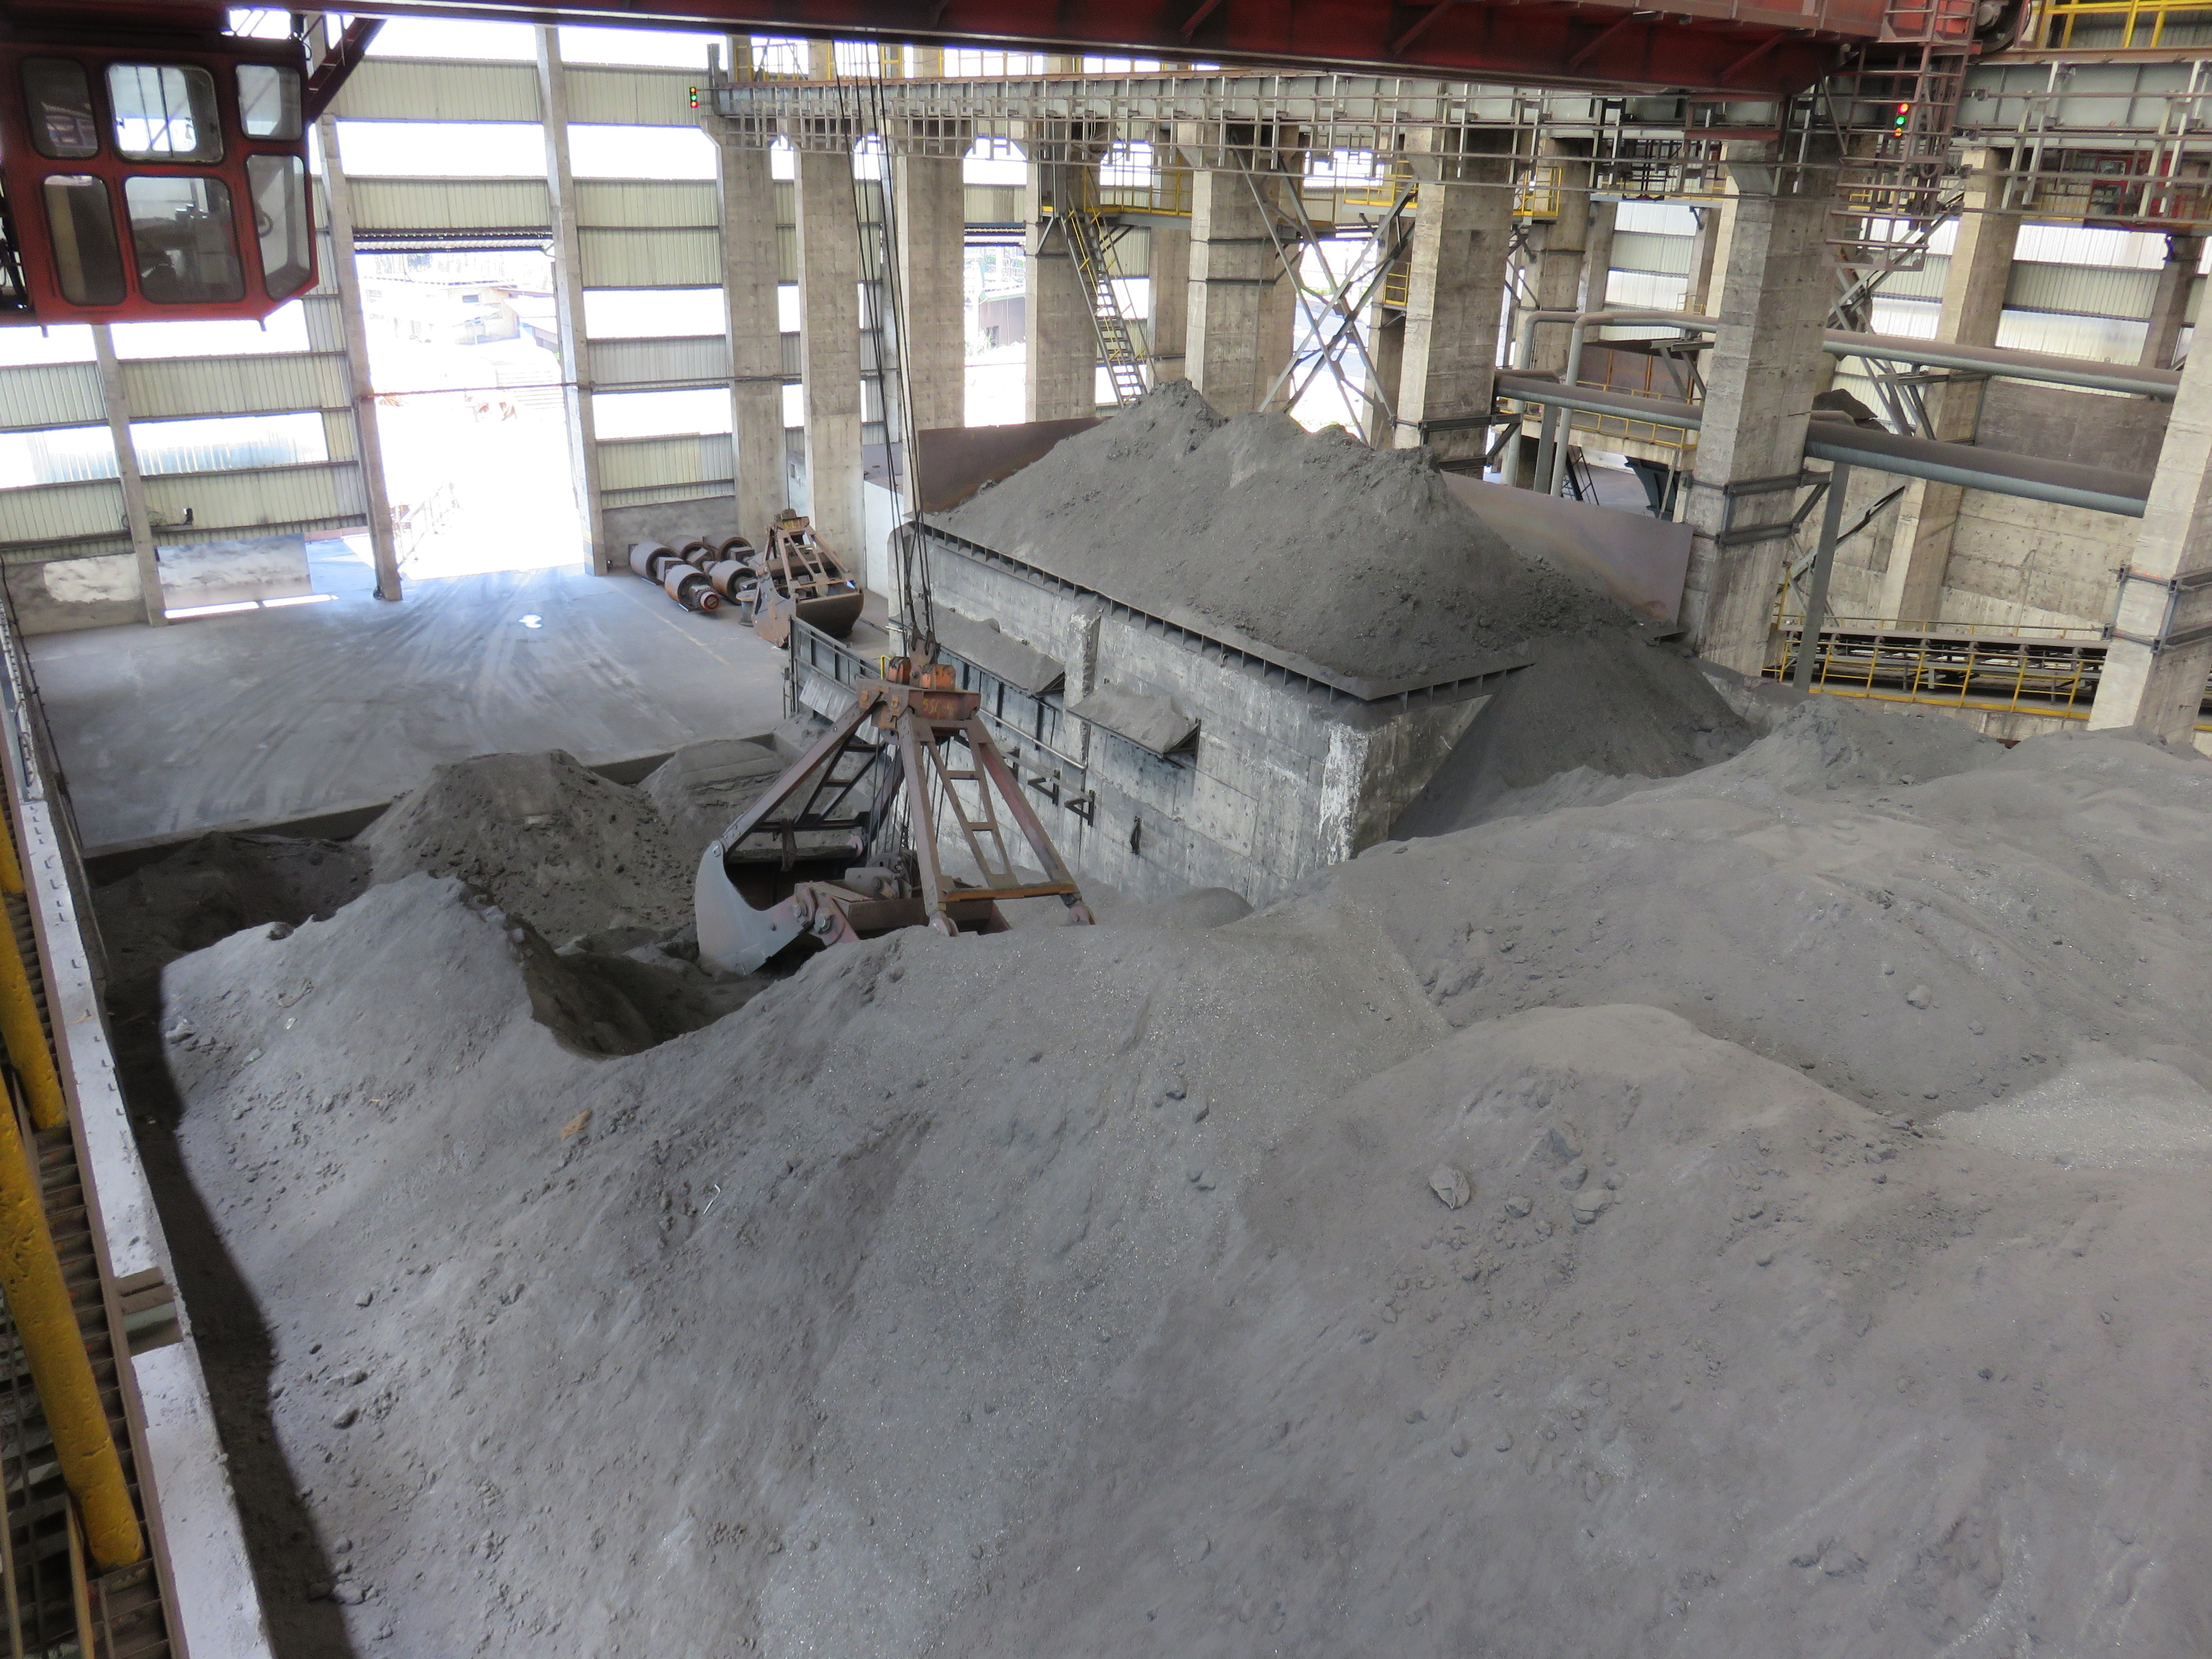grab: (688, 619, 1106, 986)
